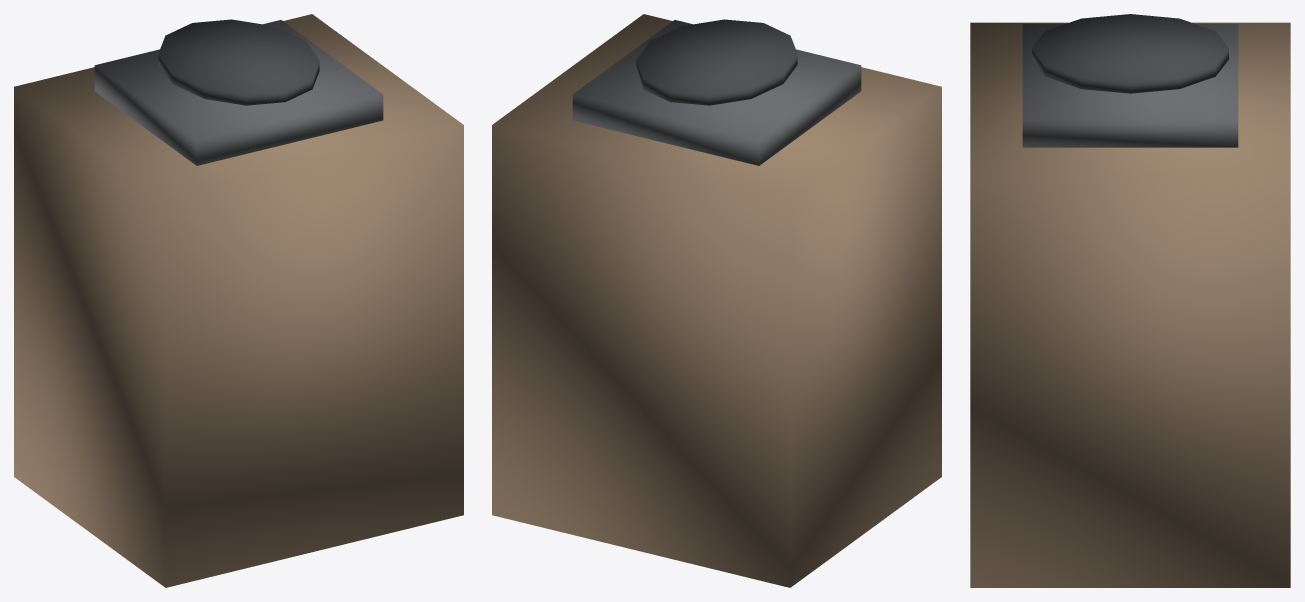
Rendered from record_store_listening_station__deep.glb.
3 renders of one model, left to right at view 1: azimuth 30°, elevation 25°; view 2: azimuth 150°, elevation 25°; view 3: azimuth 270°, elevation 25°, orthographic. The views are drawn at different scales.
Visible parts, largest first — view 1: world; view 2: world; view 3: world.
Boxes of the visible parts, <box> form: world: <box>14,14,463,587</box>; world: <box>492,14,941,587</box>; world: <box>970,14,1290,587</box>.
Bounding box in the file's own units: 0.72 × 1.01 × 0.6344.
